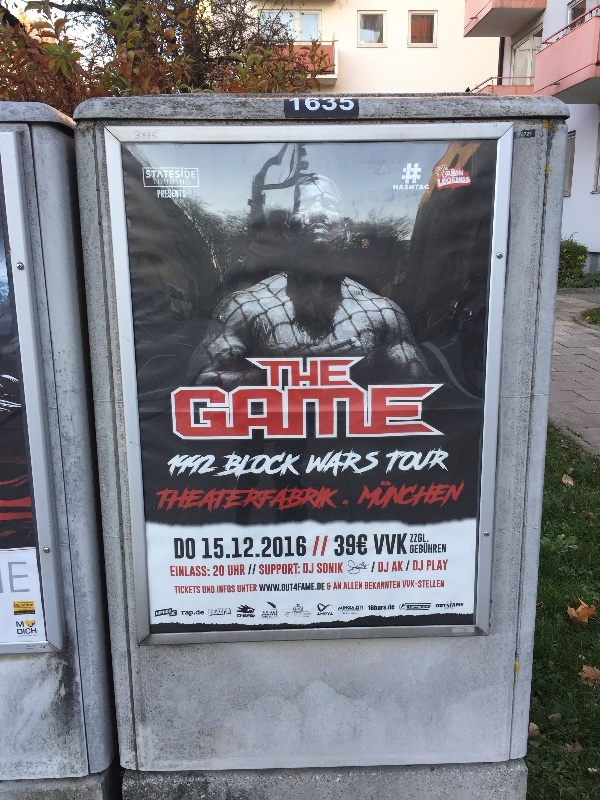text: (177, 383, 192, 443), (193, 383, 208, 443), (209, 383, 224, 443), (225, 383, 240, 443), (241, 383, 256, 443), (257, 383, 272, 443), (273, 383, 288, 443), (289, 383, 304, 443), (305, 383, 320, 443), (321, 383, 336, 443), (337, 383, 352, 443), (353, 383, 368, 443), (369, 383, 384, 443), (385, 383, 400, 443), (401, 383, 416, 443), (417, 383, 432, 443), (433, 383, 445, 443), (321, 440, 336, 482), (337, 440, 352, 482), (353, 440, 368, 482), (369, 440, 384, 482), (289, 450, 305, 484), (225, 450, 240, 484), (241, 450, 256, 484), (257, 450, 272, 484), (273, 450, 288, 484), (257, 356, 272, 388), (273, 356, 288, 388), (289, 356, 304, 388), (305, 356, 320, 388), (321, 356, 336, 388), (337, 356, 352, 388), (369, 480, 384, 511), (385, 480, 400, 511), (401, 480, 416, 511), (417, 480, 432, 511), (433, 480, 448, 511), (449, 480, 464, 511), (385, 446, 400, 476), (401, 446, 416, 476), (417, 446, 432, 476), (433, 446, 448, 476), (177, 454, 192, 482), (193, 454, 208, 482), (17, 562, 30, 594), (337, 486, 353, 512), (243, 356, 256, 388), (161, 486, 176, 512), (177, 486, 192, 512), (193, 486, 208, 512), (209, 486, 224, 512), (225, 486, 240, 512), (241, 486, 256, 512), (257, 486, 272, 512), (273, 486, 288, 512), (289, 486, 304, 512), (305, 486, 320, 512), (321, 486, 336, 512), (353, 356, 365, 388), (311, 440, 320, 482), (209, 536, 224, 560), (225, 536, 240, 560), (241, 536, 256, 560), (257, 536, 272, 560), (273, 536, 288, 560), (289, 536, 304, 560), (170, 383, 176, 443), (337, 534, 352, 557), (353, 534, 368, 557), (385, 533, 400, 555), (177, 538, 192, 560), (209, 454, 220, 482), (8, 562, 16, 594), (404, 163, 416, 184), (449, 164, 464, 179), (168, 454, 176, 482), (374, 533, 384, 555), (289, 98, 304, 112), (305, 98, 320, 112), (321, 98, 336, 112), (337, 98, 352, 112), (273, 563, 288, 576), (433, 560, 449, 572), (177, 565, 192, 577), (193, 565, 208, 577), (417, 542, 432, 554), (449, 176, 464, 188), (259, 563, 272, 576), (321, 563, 336, 574), (433, 542, 446, 554), (401, 533, 408, 555), (321, 536, 328, 557), (385, 581, 401, 590), (228, 564, 240, 576), (202, 536, 208, 560), (371, 562, 384, 573), (289, 563, 300, 576), (369, 581, 384, 590), (273, 583, 288, 592), (289, 583, 304, 592), (305, 583, 320, 592), (241, 584, 256, 593), (161, 190, 176, 199), (213, 565, 224, 577), (436, 165, 448, 176), (417, 163, 423, 184), (364, 480, 368, 511), (209, 608, 224, 616), (417, 580, 432, 588), (177, 586, 192, 594), (438, 176, 448, 188), (161, 171, 176, 179), (177, 171, 192, 179), (259, 583, 272, 592), (417, 534, 430, 543), (145, 132, 159, 140), (146, 171, 160, 179), (17, 628, 32, 635), (403, 580, 416, 588), (156, 486, 160, 512), (305, 563, 314, 574), (193, 609, 205, 617), (433, 580, 445, 588), (369, 605, 384, 611), (442, 164, 448, 179), (161, 179, 176, 185), (225, 585, 236, 593), (408, 561, 416, 572), (177, 190, 186, 199), (182, 609, 192, 617), (353, 582, 363, 590), (134, 132, 144, 140), (177, 179, 190, 185), (417, 560, 424, 571), (337, 563, 344, 574), (17, 603, 32, 608), (449, 603, 464, 608), (401, 185, 416, 190), (327, 583, 336, 591), (170, 565, 176, 577), (465, 176, 471, 188), (516, 132, 528, 138), (161, 610, 172, 616), (394, 561, 400, 572), (250, 564, 256, 575), (193, 538, 196, 560), (193, 586, 201, 594), (317, 536, 320, 557), (465, 480, 467, 511), (436, 603, 448, 608), (385, 605, 395, 611), (427, 560, 432, 572), (241, 564, 246, 576), (411, 542, 416, 554), (449, 446, 451, 476), (417, 185, 429, 190), (241, 614, 255, 618), (225, 608, 232, 616), (345, 582, 352, 590), (217, 585, 224, 593), (379, 562, 384, 573), (410, 534, 416, 543), (339, 606, 352, 610), (17, 622, 25, 628), (356, 606, 368, 610), (209, 586, 215, 594), (152, 179, 160, 185), (17, 612, 32, 615), (305, 613, 320, 616), (289, 613, 304, 616), (385, 562, 389, 573), (174, 538, 176, 560), (18, 635, 32, 638), (264, 611, 272, 616), (337, 582, 342, 590), (203, 586, 208, 594), (417, 605, 430, 608), (321, 613, 334, 616), (321, 583, 325, 592), (223, 450, 224, 484), (413, 560, 416, 571), (401, 561, 404, 572), (317, 563, 320, 574), (394, 185, 400, 190), (33, 628, 37, 635), (365, 581, 368, 590), (157, 190, 160, 199), (273, 611, 278, 616), (171, 611, 176, 616), (156, 610, 160, 616), (305, 536, 306, 560), (193, 171, 196, 179), (335, 534, 336, 557), (449, 607, 456, 610), (297, 608, 304, 611), (262, 616, 272, 618), (410, 605, 416, 608), (238, 584, 240, 593), (529, 132, 532, 138), (344, 612, 352, 614), (334, 582, 336, 590), (33, 635, 48, 636), (353, 98, 354, 112), (26, 648, 32, 650), (444, 607, 448, 610), (353, 606, 356, 610), (353, 612, 359, 614), (237, 614, 240, 618), (209, 565, 210, 577), (27, 646, 32, 648), (14, 603, 16, 608), (273, 616, 278, 618), (285, 613, 288, 616), (257, 584, 258, 593), (33, 648, 37, 650), (33, 646, 37, 648), (175, 586, 176, 594), (45, 645, 48, 647), (33, 612, 35, 615), (318, 613, 320, 616), (33, 603, 34, 608), (15, 612, 16, 615)
